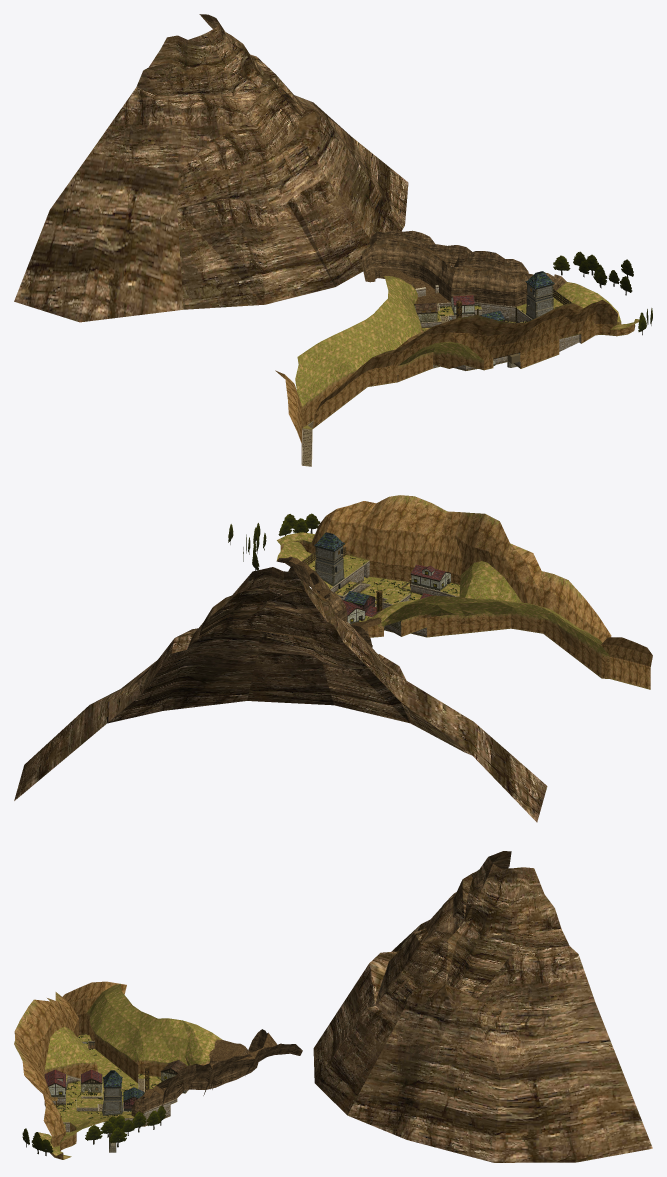
Rendered from kakariko_village_ocarina_of_time.glb.
3 views of the same model, one above another, from view 1: azimuth 30°, elevation 25°; view 2: azimuth 150°, elevation 25°; view 3: azimuth 270°, elevation 25° (orthographic). The views are drawn at different scales.
Parts seen in each view (by area): view 1: obj7, obj8, obj6, obj17, obj5, obj1, obj13, obj18; view 2: obj7, obj8, obj6, obj18, obj5, obj17, obj13, obj15, obj1; view 3: obj7, obj6, obj8, obj17, obj1, obj18, obj5, obj13.
Part boxes in pixels (x1,y1,x2,y2): obj7: (14,14,566,322); obj8: (275,298,635,464); obj6: (295,276,639,429); obj17: (553,251,652,335); obj5: (416,286,581,370); obj1: (366,236,533,303); obj13: (525,279,554,320); obj18: (414,271,554,359); obj7: (14,556,547,822); obj8: (280,495,652,689); obj6: (276,532,609,656); obj18: (315,532,450,626); obj5: (330,560,455,637); obj17: (228,513,320,570); obj13: (314,541,344,590); obj15: (320,569,450,623); obj1: (289,557,390,646); obj7: (131,851,652,1162); obj6: (38,984,211,1159); obj8: (14,981,204,1159); obj17: (22,1105,165,1155); obj1: (143,1033,277,1098); obj18: (44,1068,182,1107); obj5: (52,1074,212,1132); obj13: (82,1069,177,1114).
Bounding box in the file's own units: 9891 × 5102 × 11991.
Materials: 29 (29 with a texture image).
